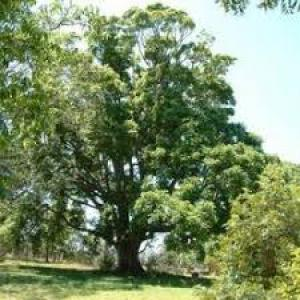Tree: (24, 3, 269, 270)
